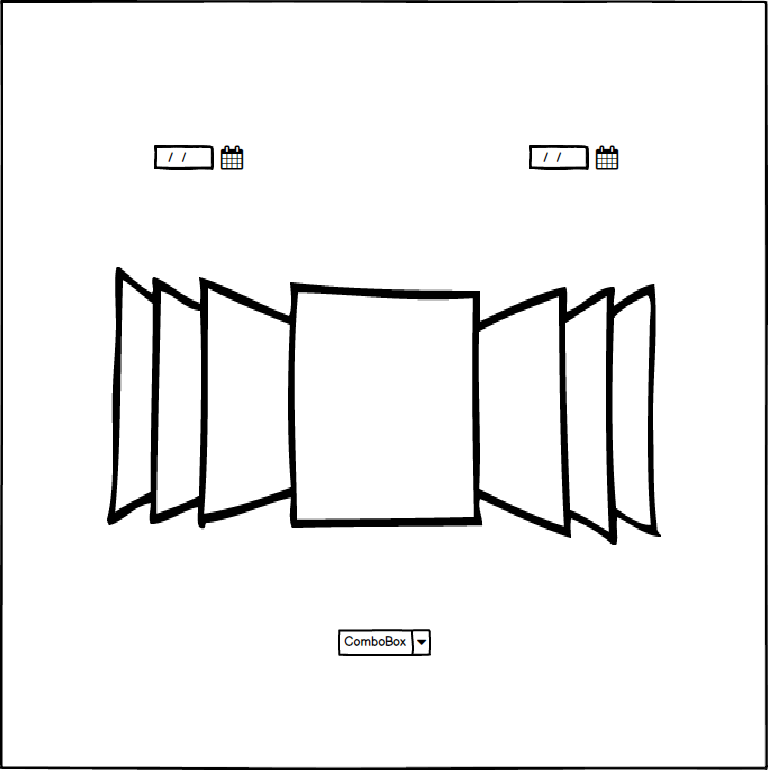date_picker: (519, 140, 636, 179), (147, 141, 255, 175)
select_box: (332, 623, 438, 662)
slideshow: (95, 257, 675, 554)
